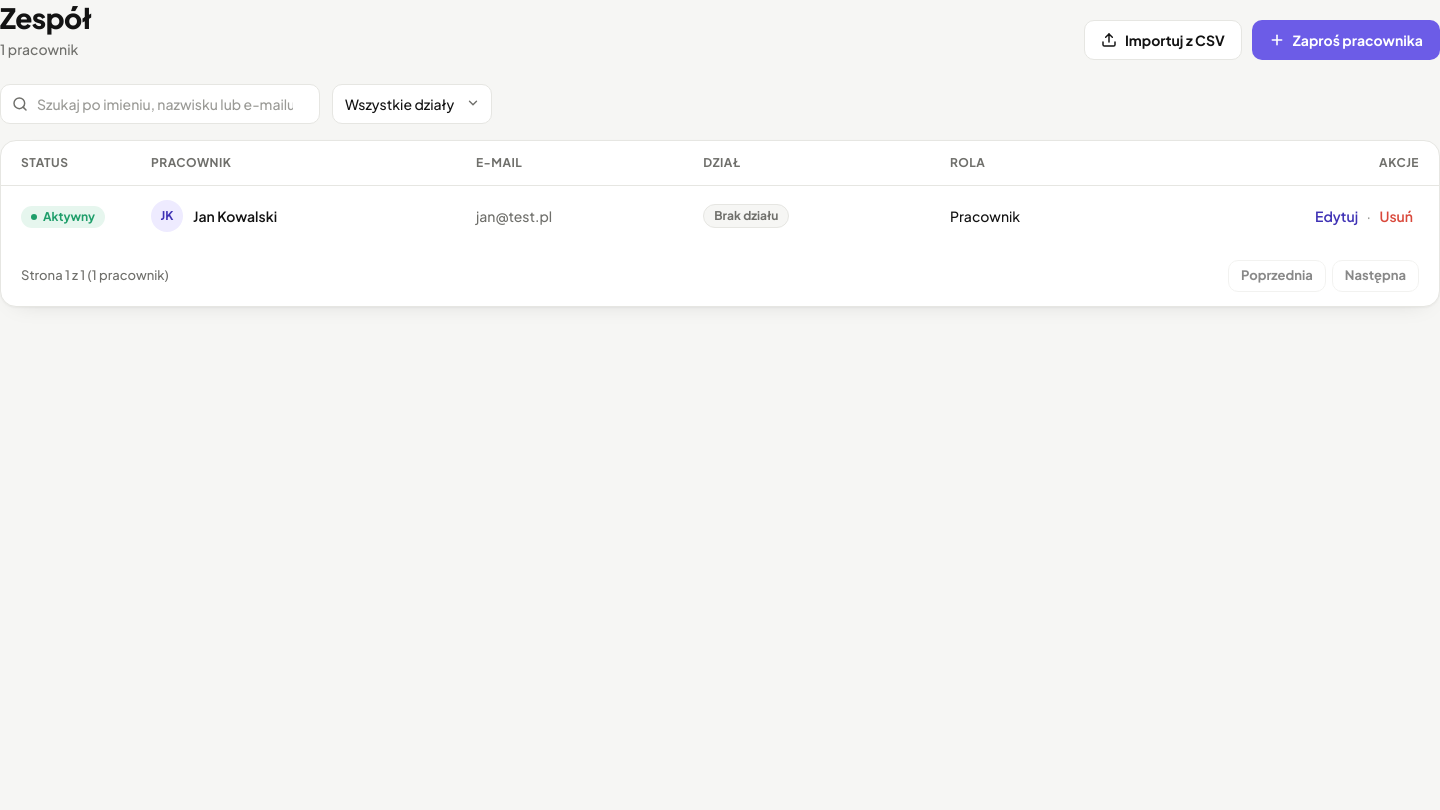
Test: UsersPageClient › otwiera modal importu CSV po kliknięciu "Importuj z CSV"
Expected: the text "jan@test.pl" is shown, [456, 186, 683, 246]
Step 1. Click the button "Importuj z CSV" → click(1163, 40), box [1084, 20, 1242, 60]
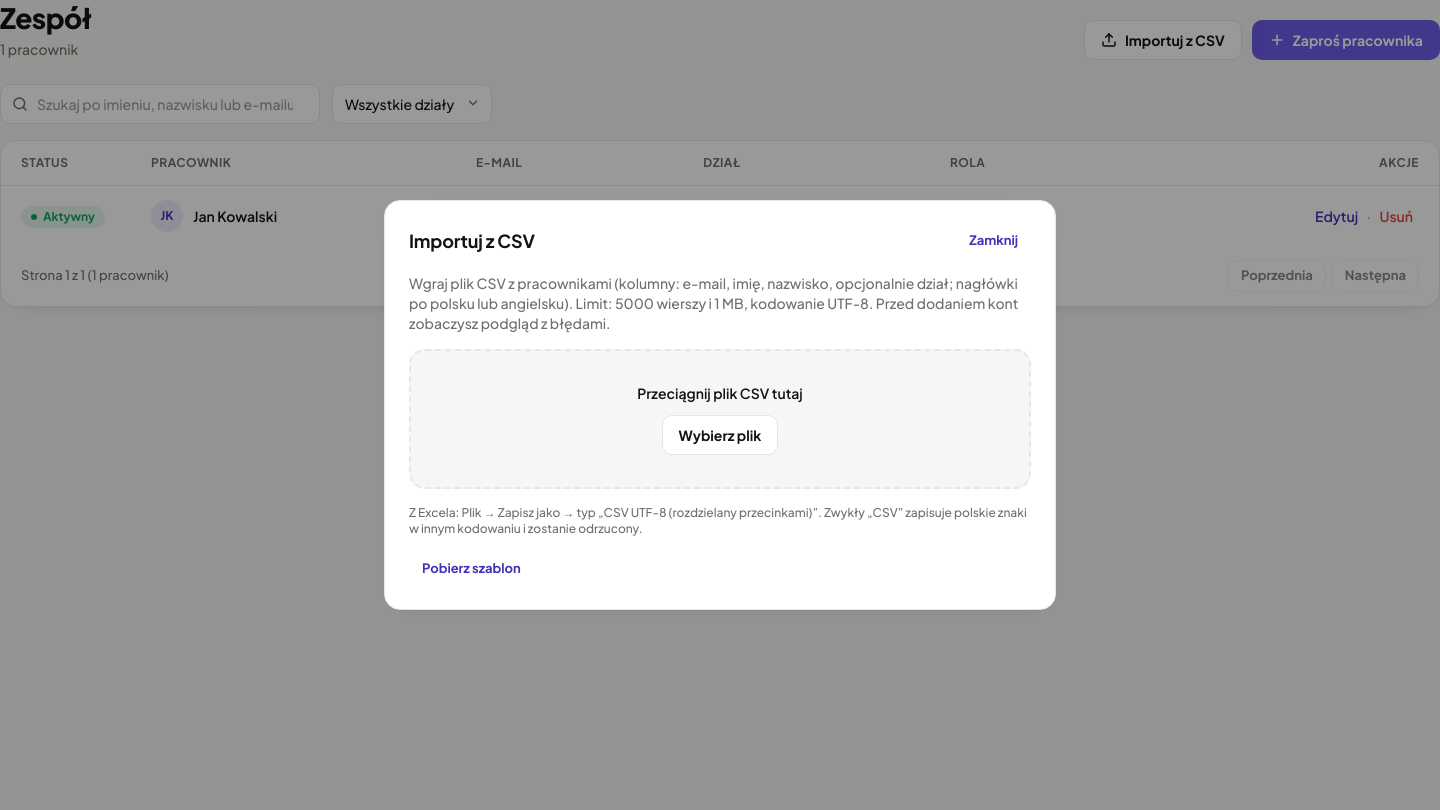
Expected: the dialog "Importuj z CSV" is shown
Expected: the button "Wybierz plik" is shown, [662, 415, 778, 455]
